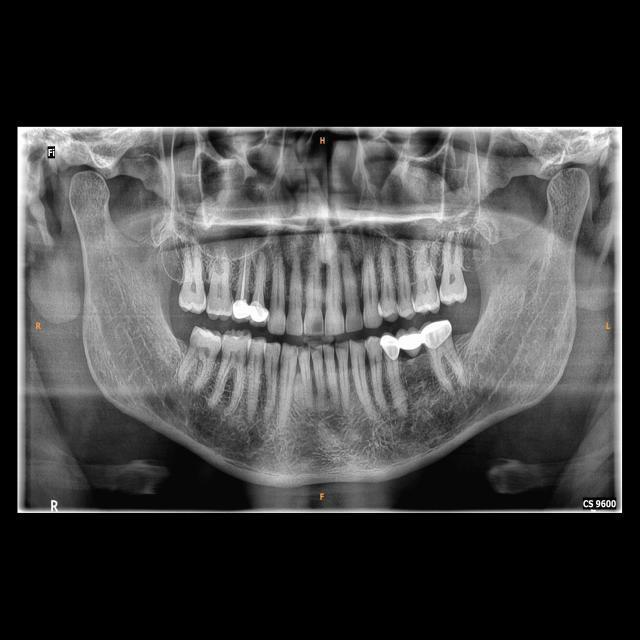kanal-tedavisi: (236, 251, 251, 300), (254, 255, 266, 305)
kaplama: (421, 316, 454, 346), (378, 332, 400, 363), (248, 298, 270, 323), (229, 301, 252, 321)
kopru: (389, 329, 434, 359)
